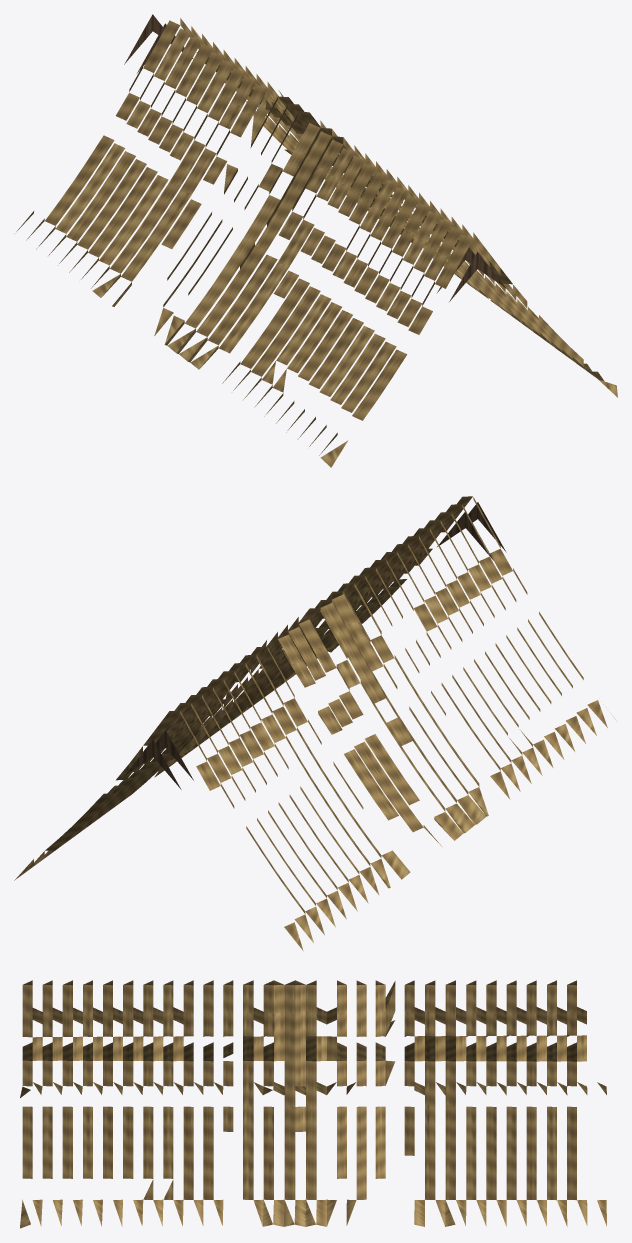
File: Roof_Thatch_6x14_LOD1.gltf
3 views of the same model, one above another, from view 1: azimuth 30°, elevation 25°; view 2: azimuth 150°, elevation 25°; view 3: azimuth 270°, elevation 25° (orthographic). The views are drawn at different scales.
Parts seen in each view (by area): view 1: Roof_Thatch_6x14_LOD1; view 2: Roof_Thatch_6x14_LOD1; view 3: Roof_Thatch_6x14_LOD1.
Boxes of the visible parts, x1,y1,x2,y2 form: Roof_Thatch_6x14_LOD1: (16, 14, 617, 467); Roof_Thatch_6x14_LOD1: (14, 496, 615, 950); Roof_Thatch_6x14_LOD1: (20, 980, 606, 1228).
Bounding box in the file's own units: 8.25 × 5.17 × 15.66.
2 materials, 2 textured.
